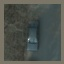car: (26, 20, 39, 50)
